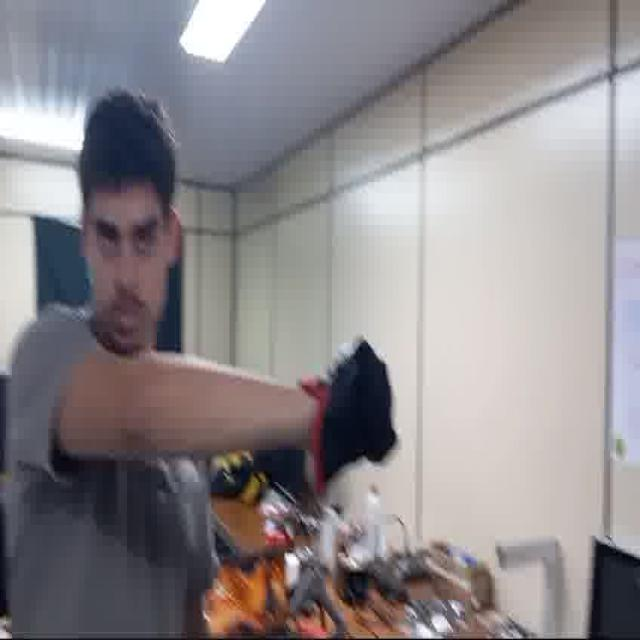Gloves: (304, 339, 397, 488)
